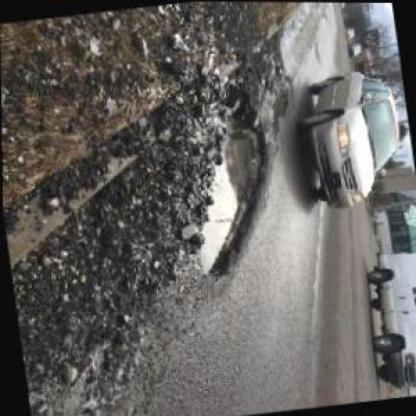pothole: (175, 110, 287, 282), (264, 83, 298, 133)
